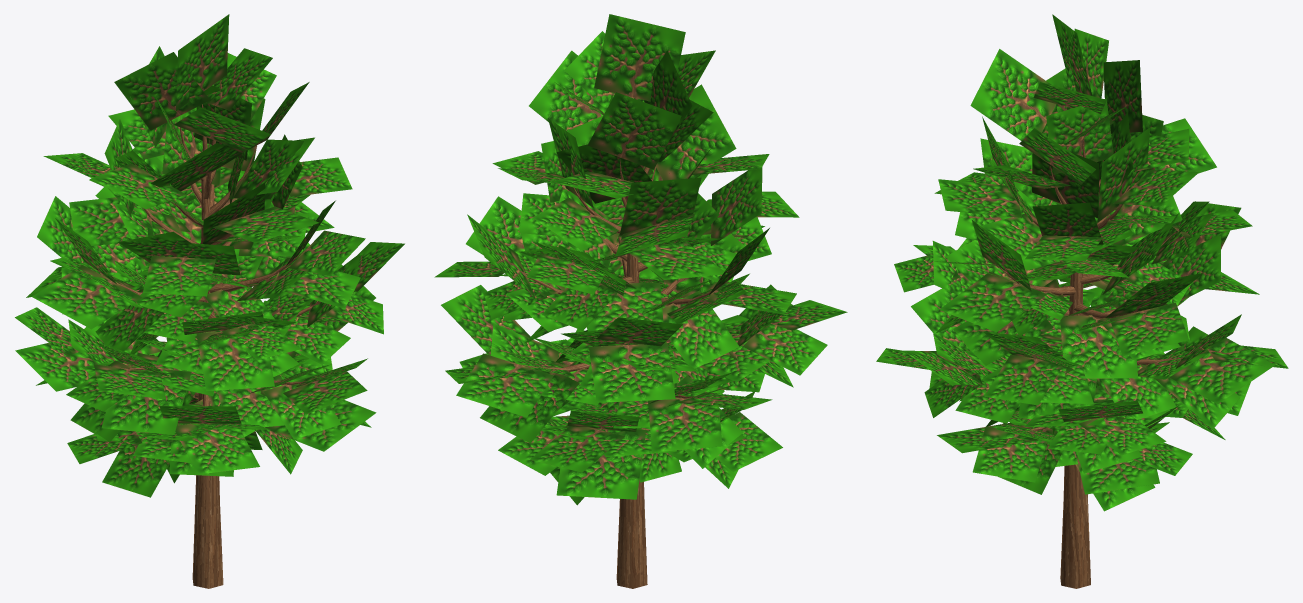
The model's file is Nature_tree02.fbx.
3 views of the same model, side by side, from view 1: azimuth 30°, elevation 25°; view 2: azimuth 150°, elevation 25°; view 3: azimuth 270°, elevation 25° (orthographic).
Visible parts, largest first — view 1: leaves, leaves1, tree; view 2: leaves, leaves1, tree; view 3: leaves, leaves1, tree.
Boxes of the visible parts, x1,y1,x2,y2 form: leaves: (15,14,404,497); leaves1: (15,20,402,495); tree: (116,104,312,588); leaves: (435,14,847,505); leaves1: (436,18,844,502); tree: (520,159,771,588); leaves: (876,14,1288,511); leaves1: (877,15,1283,510); tree: (957,107,1206,588).
Bounding box in the file's own units: 2.88 × 4.7 × 3.14.
